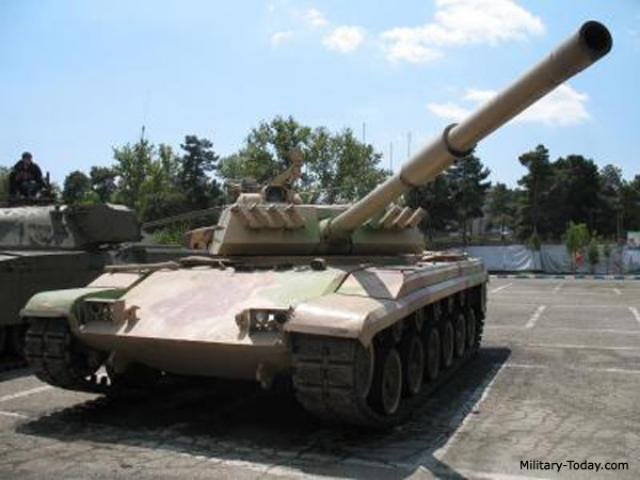other: (8, 150, 42, 190)
tank: (27, 180, 490, 400), (0, 190, 168, 336)
